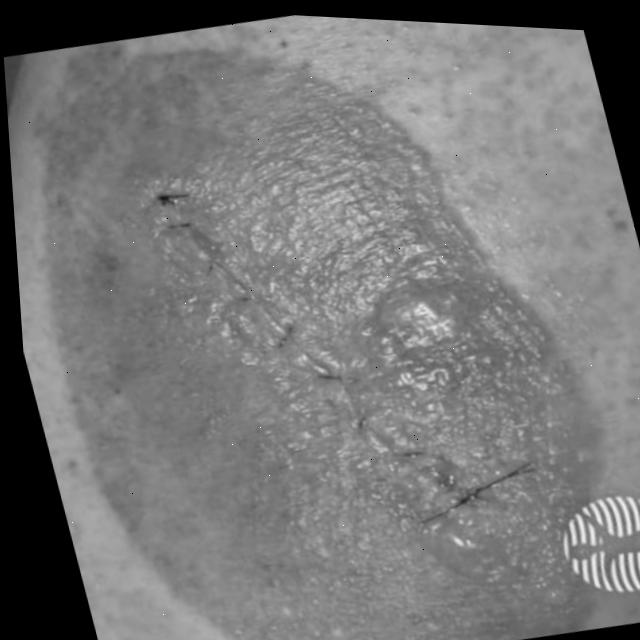Eczema: (13, 46, 622, 640)
